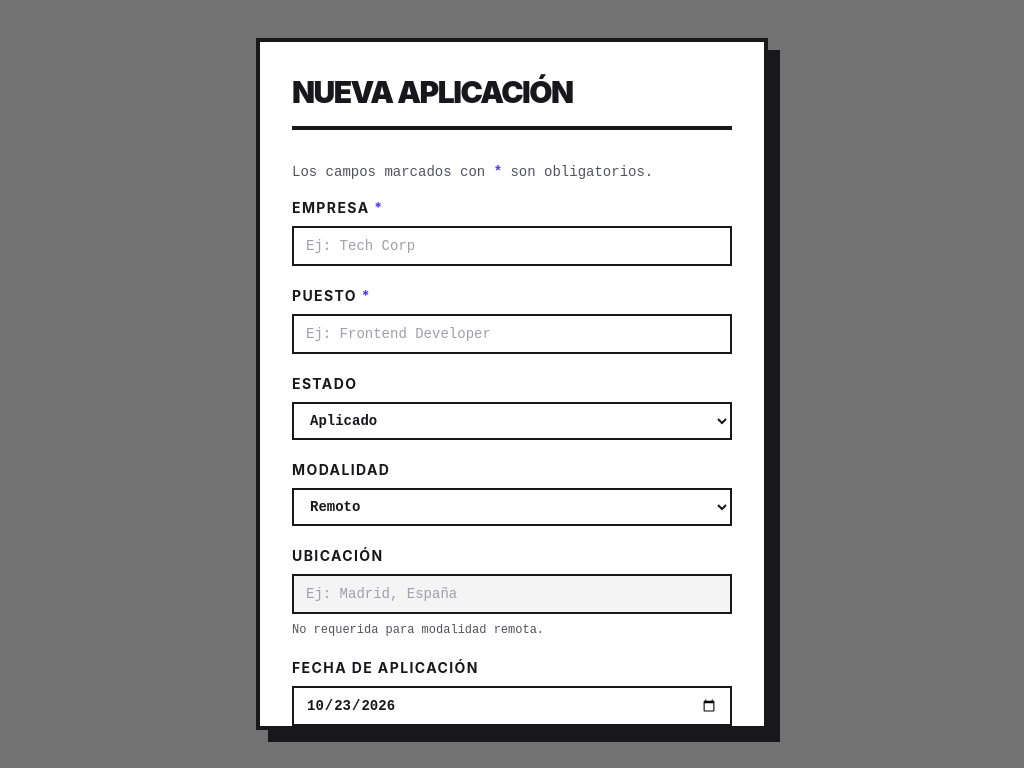
ApplicationForm.vue › blocks submit when modality is Presencial and workLocation is missing
The image size is (1024, 768).
Type "Company" into the field with id "companyName" at (512, 246), box x1=292 y1=226 x2=732 y2=266
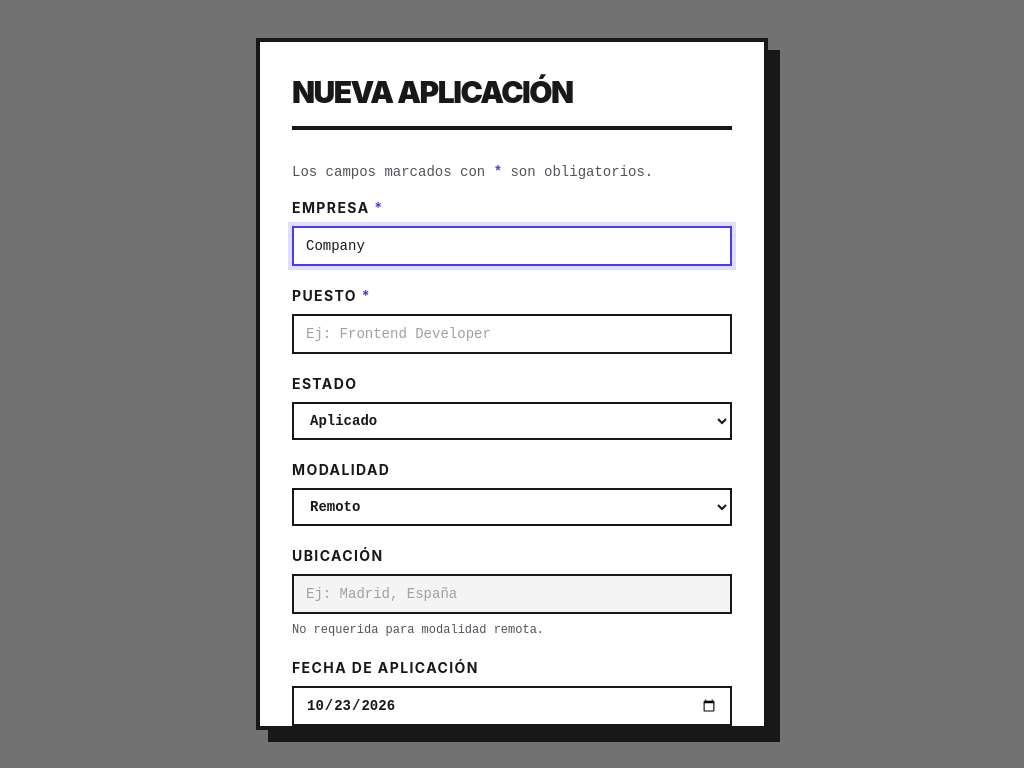
Type "Dev" into the field with id "jobTitle" at (512, 334), box x1=292 y1=314 x2=732 y2=354
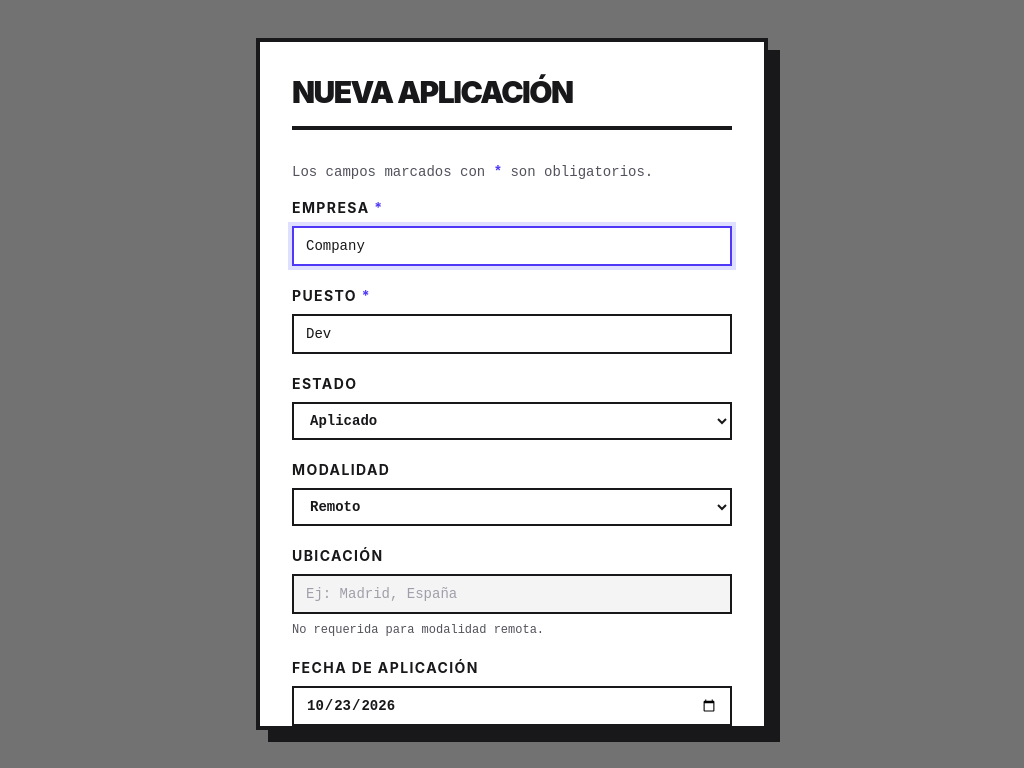
Select "Presencial" in the dropdown with test id "application-modality" at (512, 507), box x1=292 y1=488 x2=732 y2=526
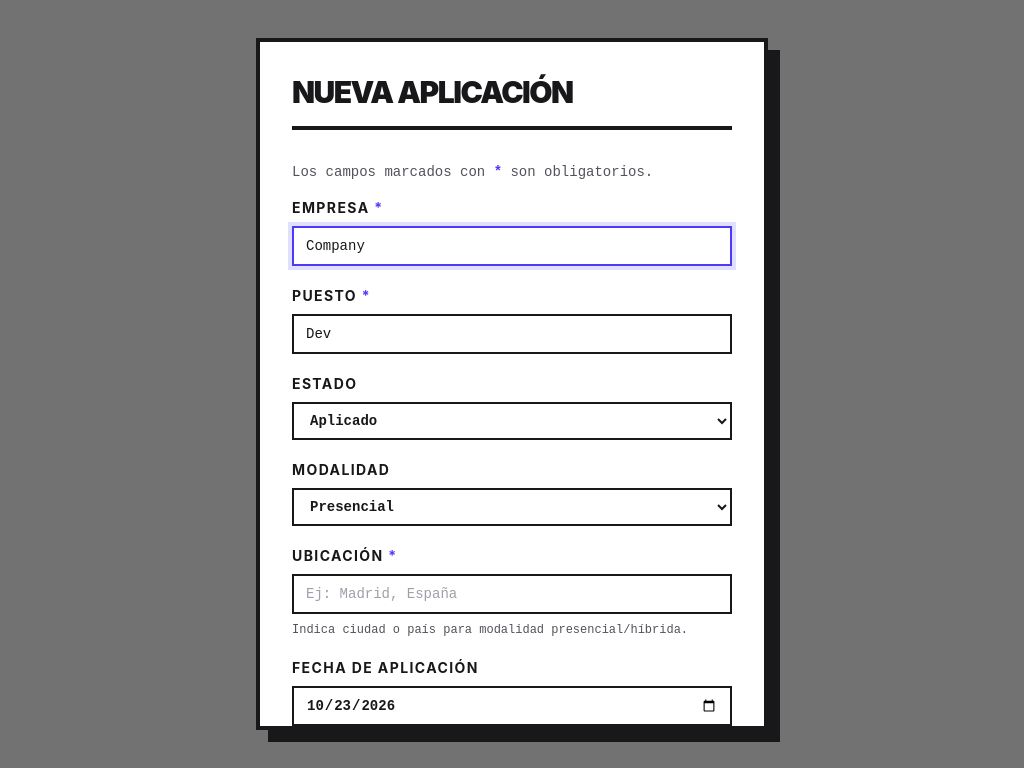
Clear the field with test id "application-work-location" at (512, 594), box x1=292 y1=574 x2=732 y2=614
(page scrolled)
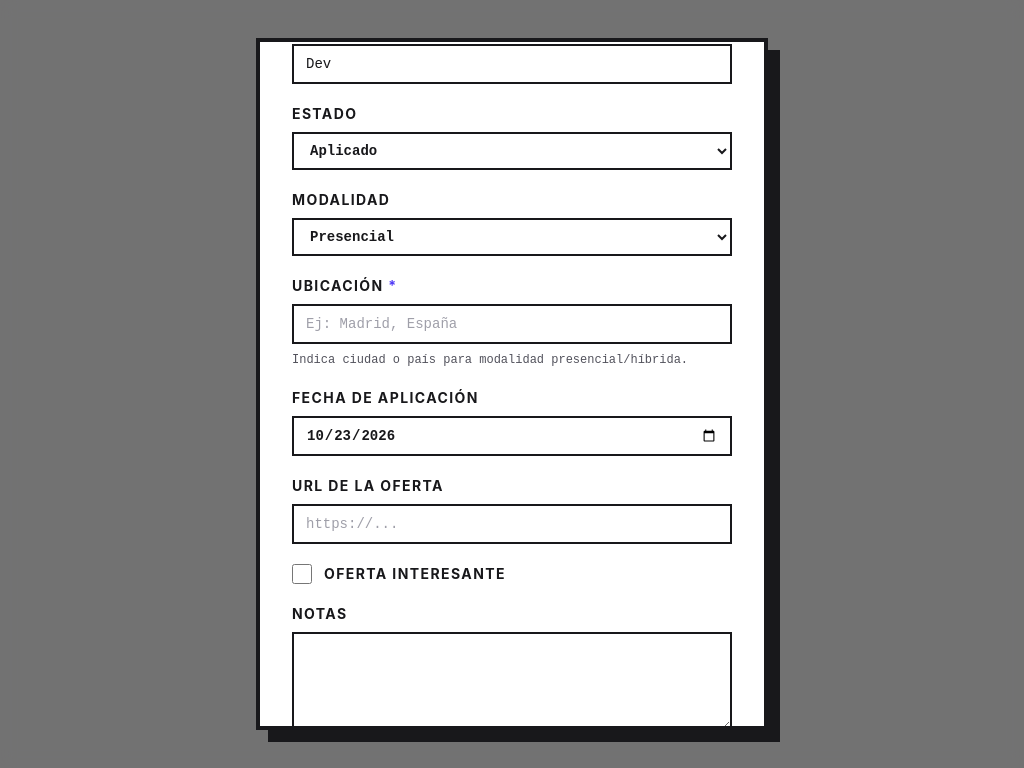
Submit the form
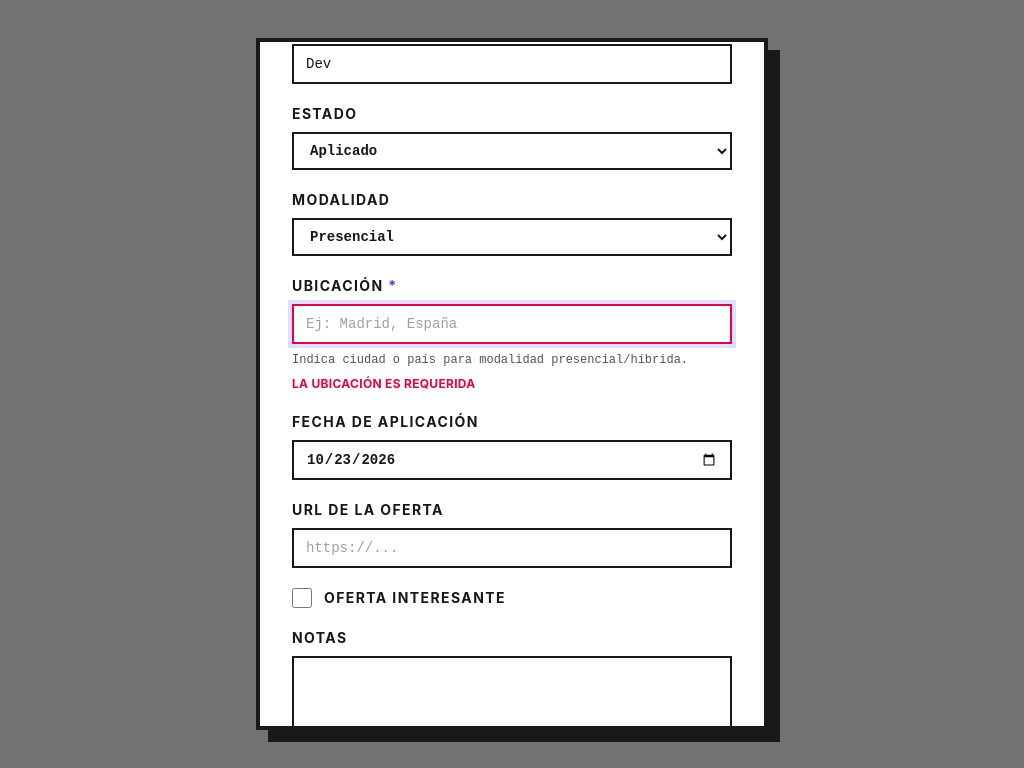
Now the text "La ubicación es requerida" is shown, box x1=292 y1=376 x2=476 y2=391
